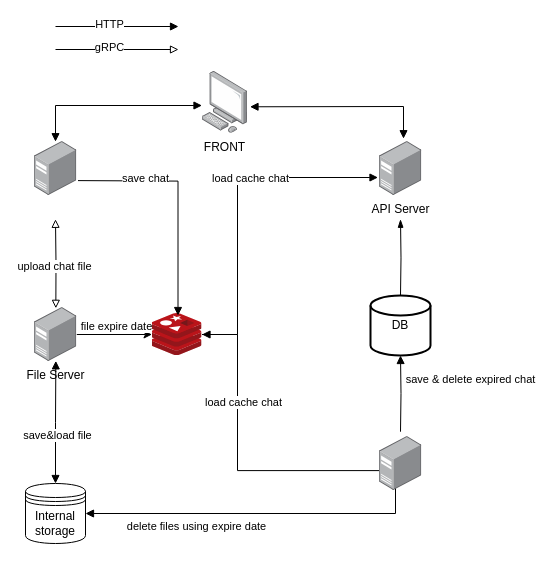
Some shapes in this 553 by 561 pixel diagram are drawn without their labels. Here are the shapes that lost their labels. From the top down, the centre of each, then its label:
At point (55, 168): "Socket Server".
At point (177, 334): "Redis".
At point (400, 463): "Worker Server".
